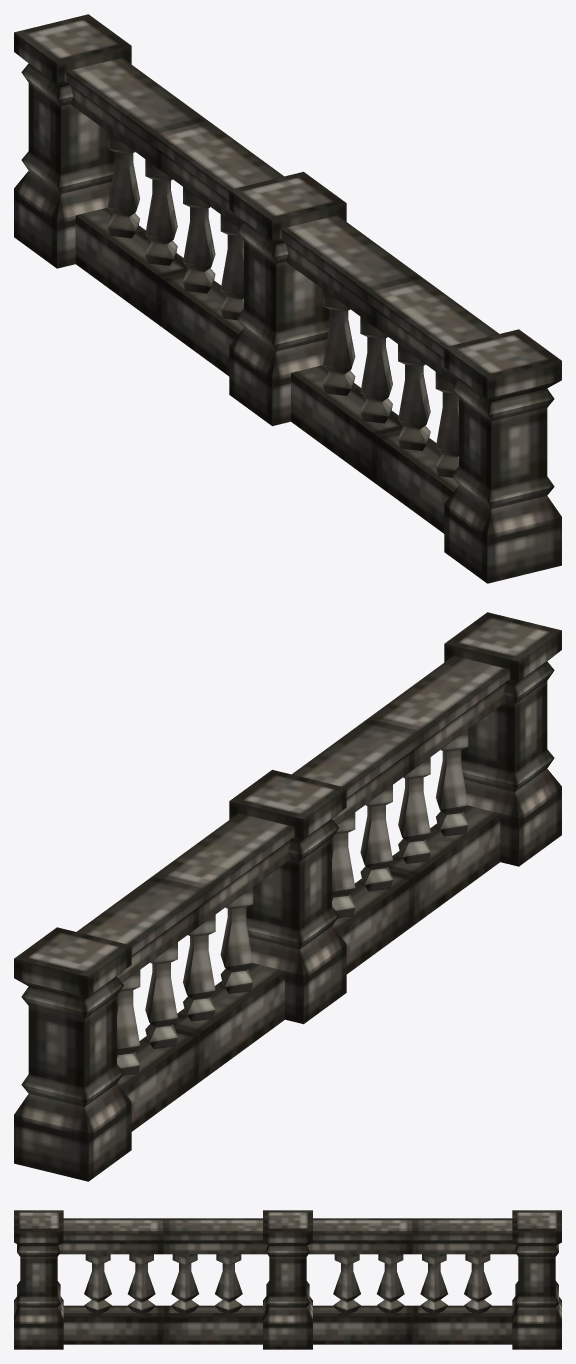
The model's file is EnvBdgMD_Courthouse_A_Indoor_Fence_A.FBX.
3 views of the same model, one above another, from view 1: azimuth 30°, elevation 25°; view 2: azimuth 150°, elevation 25°; view 3: azimuth 270°, elevation 25° (orthographic). The views are drawn at different scales.
Parts seen in each view (by area): view 1: EnvBdgMD_Courthouse_A_Indoor_Fence_A; view 2: EnvBdgMD_Courthouse_A_Indoor_Fence_A; view 3: EnvBdgMD_Courthouse_A_Indoor_Fence_A.
Part boxes in pixels (x1=…): EnvBdgMD_Courthouse_A_Indoor_Fence_A: x1=14, y1=14, x2=561, y2=583; EnvBdgMD_Courthouse_A_Indoor_Fence_A: x1=14, y1=612, x2=561, y2=1181; EnvBdgMD_Courthouse_A_Indoor_Fence_A: x1=14, y1=1210, x2=561, y2=1349.
Size of the model in its own units: 40 by 105 by 440.
